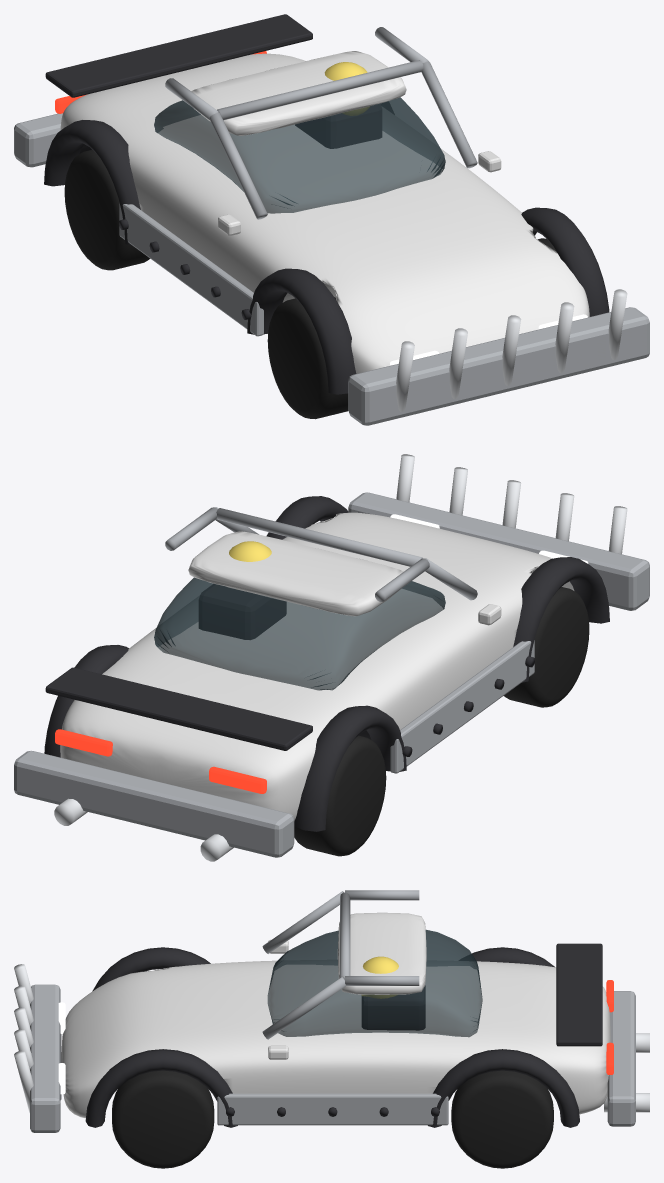
Rendered from coupe.glb.
3 renders of one model, top to bottom at view 1: azimuth 30°, elevation 25°; view 2: azimuth 150°, elevation 25°; view 3: azimuth 270°, elevation 25°, orthographic. The views are drawn at different scales.
Visible parts, largest first — view 1: Paint_Body, Steel_Parts, Dark_Parts, Glass, Wheel_FR, Wheel_RR, Helmet; view 2: Paint_Body, Steel_Parts, Dark_Parts, Glass, Wheel_RR, Wheel_FR, TailLights, Helmet; view 3: Paint_Body, Steel_Parts, Dark_Parts, Glass, Wheel_RL, Wheel_FL, Helmet, TailLights, HeadLights.
Boxes of the visible parts, left/top/right/bottom form: Paint_Body: left=60, top=51, right=589, bottom=373; Steel_Parts: left=14, top=27, right=649, bottom=425; Dark_Parts: left=44, top=14, right=609, bottom=394; Glass: left=154, top=97, right=445, bottom=213; Wheel_FR: left=267, top=297, right=348, bottom=419; Wheel_RR: left=64, top=150, right=150, bottom=270; Helmet: left=324, top=62, right=369, bottom=115; Paint_Body: left=60, top=512, right=574, bottom=820; Steel_Parts: left=14, top=454, right=649, bottom=857; Dark_Parts: left=44, top=496, right=609, bottom=861; Glass: left=154, top=577, right=445, bottom=690; Wheel_RR: left=294, top=735, right=386, bottom=856; Wheel_FR: left=504, top=587, right=589, bottom=707; TailLights: left=55, top=729, right=266, bottom=793; Helmet: left=229, top=541, right=271, bottom=561; Paint_Body: left=61, top=912, right=610, bottom=1118; Steel_Parts: left=14, top=890, right=635, bottom=1132; Dark_Parts: left=60, top=943, right=649, bottom=1127; Glass: left=267, top=929, right=482, bottom=1037; Wheel_RL: left=451, top=1070, right=553, bottom=1168; Wheel_FL: left=112, top=1070, right=214, bottom=1168; Helmet: left=362, top=956, right=398, bottom=998; TailLights: left=606, top=980, right=613, bottom=1074; HeadLights: left=58, top=1002, right=65, bottom=1094.
Size of the model in its own units: 2.17 by 1.58 by 4.96.
